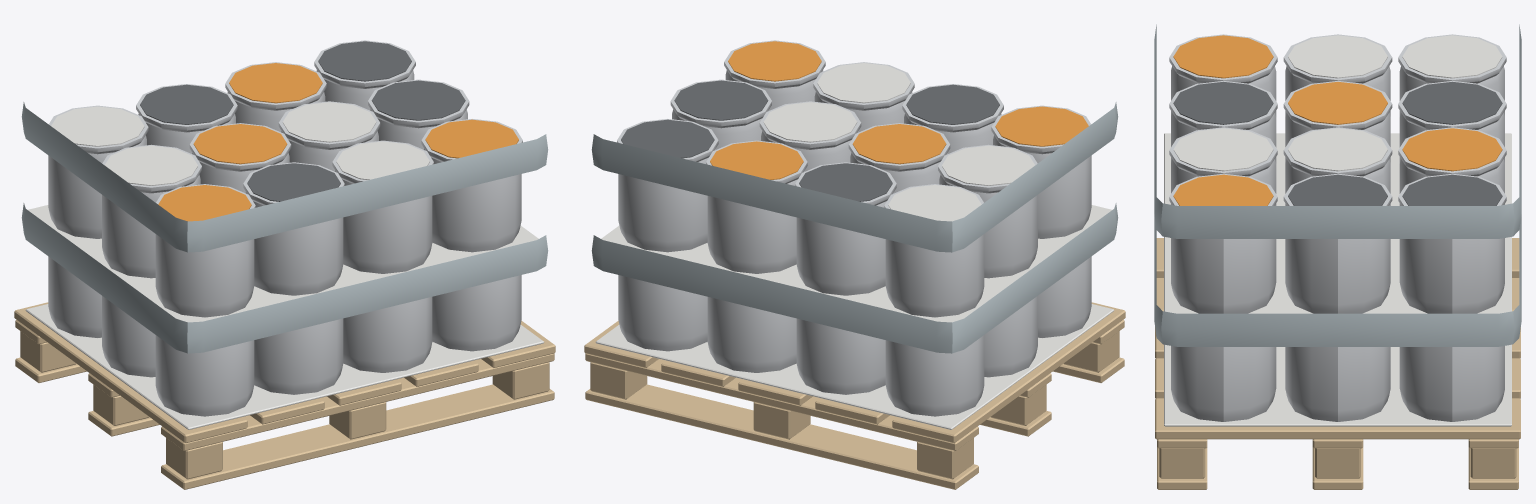
Rendered from paint-tin-pallet-block.glb.
The picture shows the model from 3 angles, left to right: view 1: azimuth 30°, elevation 25°; view 2: azimuth 150°, elevation 25°; view 3: azimuth 270°, elevation 25°; orthographic projection. The views are drawn at different scales.
Parts seen in each view (by area): view 1: paint-tin-block-pallet; view 2: paint-tin-block-pallet; view 3: paint-tin-block-pallet.
Boxes of the visible parts, x1,y1,x2,y2 form: paint-tin-block-pallet: [14, 40, 555, 489]; paint-tin-block-pallet: [584, 40, 1125, 489]; paint-tin-block-pallet: [1154, 24, 1521, 489].
Size of the model in its own units: 1 by 0.684 by 0.802.
